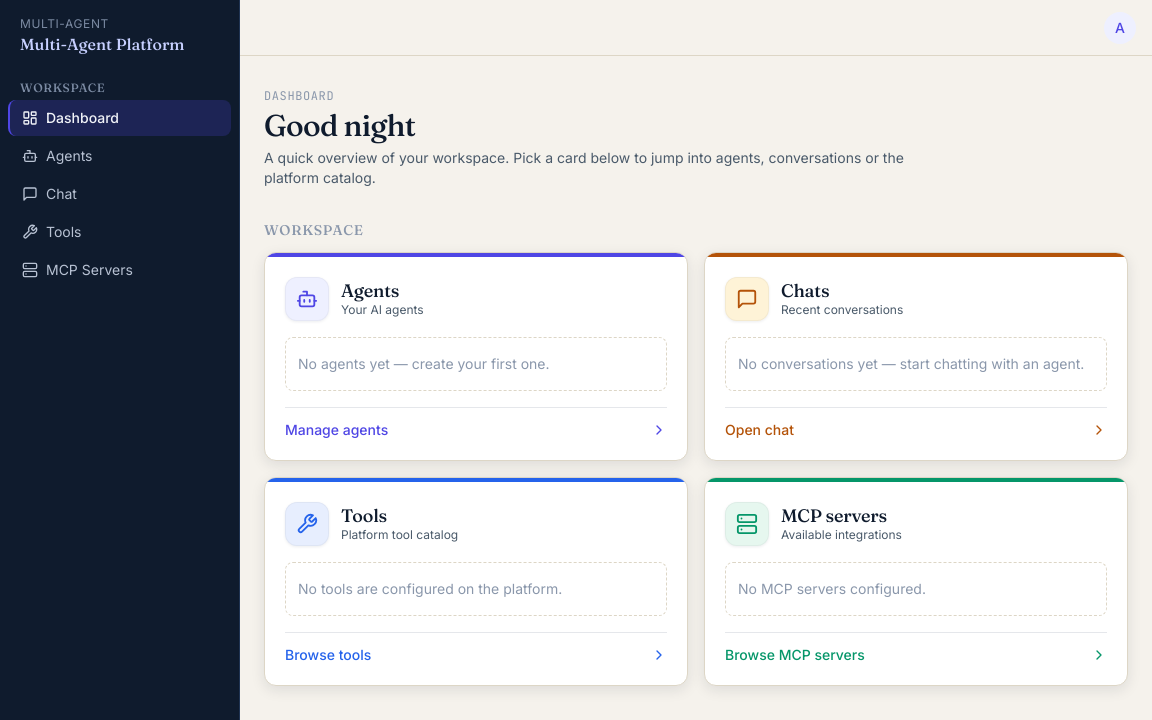
Test case: routes integration › logout flow end-to-end: profile menu → sign out → /login
The image size is (1152, 720).
Click the button named "profile menu": (1120, 28) [1104,12,1136,44]
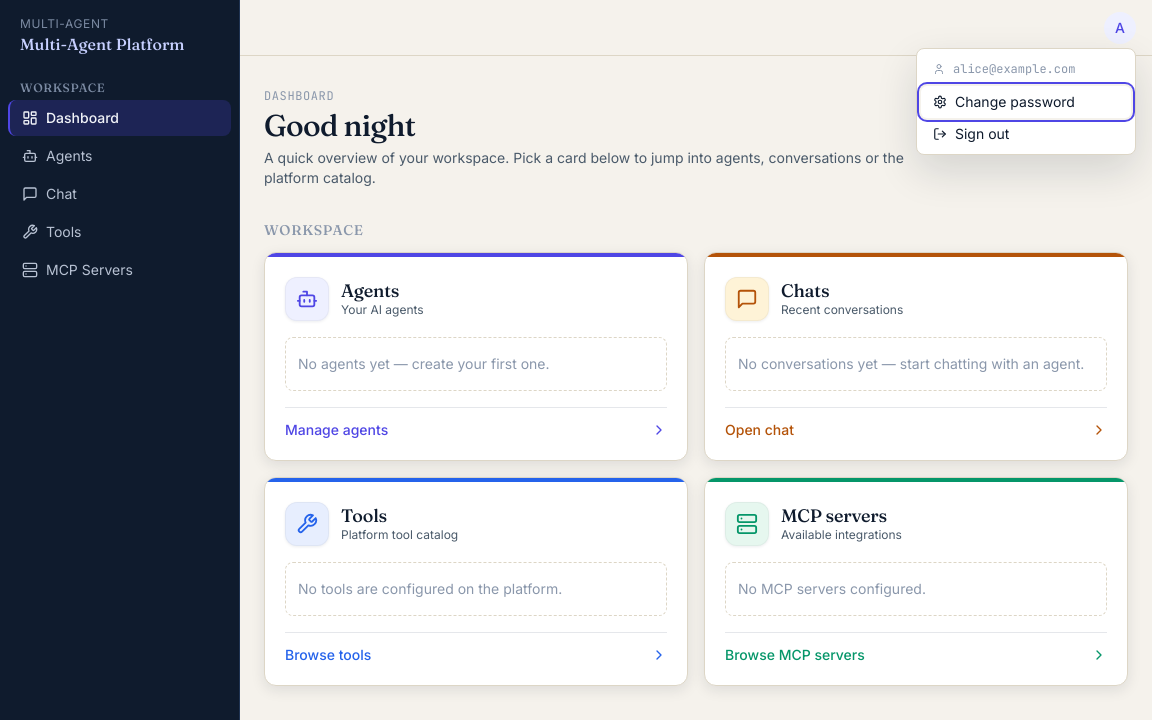
Click the menu item "Sign out": (1026, 134) [921,118,1131,150]
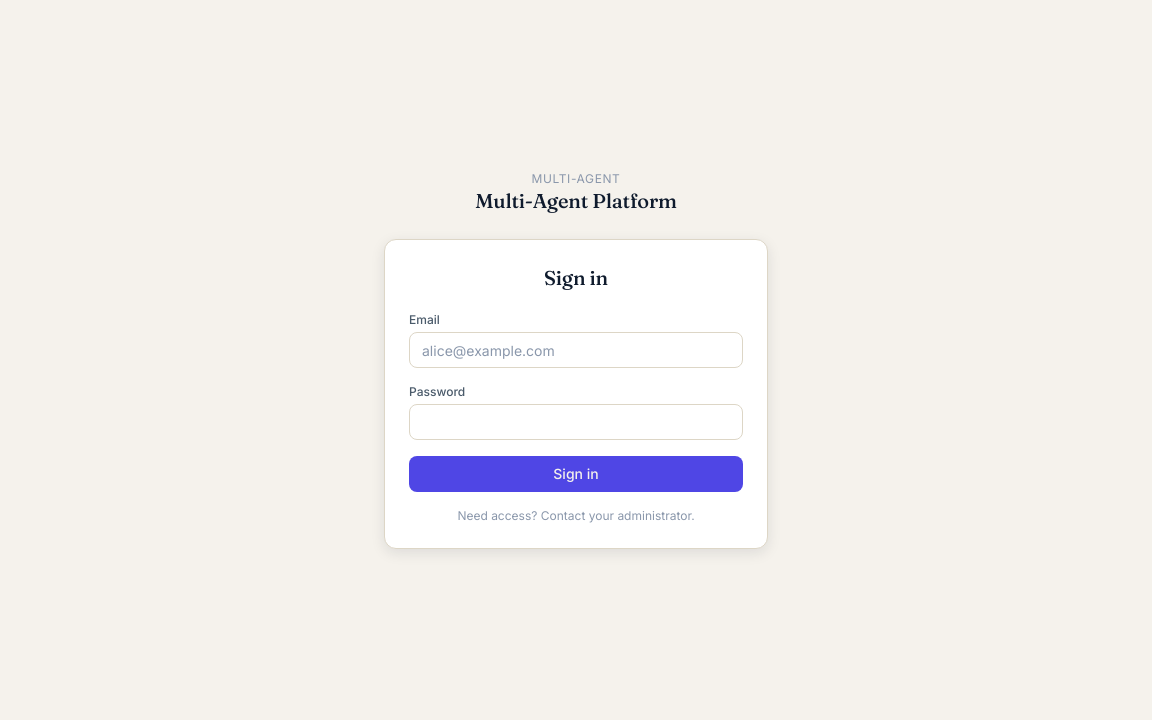
Expected: the heading "Sign in" is shown, [544,265,608,290]
